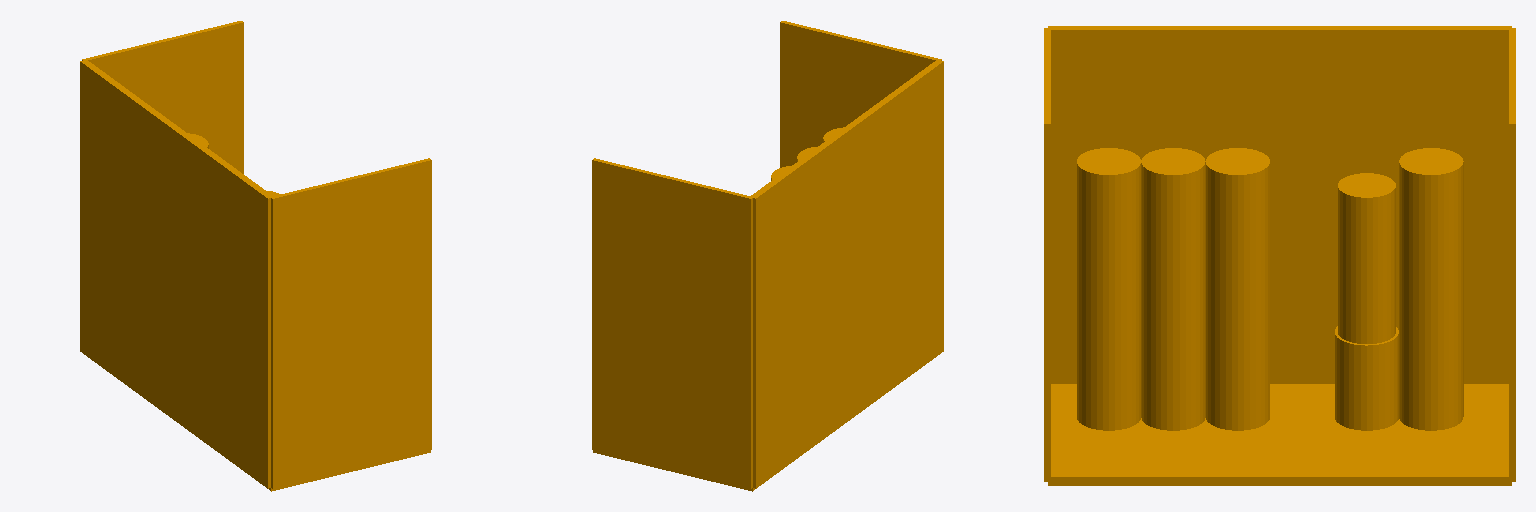
The robot description file, URDF, robot "syn_can_cabinet_packed_uniform_281":
<?xml version="1.0" ?>
<robot name="syn_can_cabinet_packed_uniform_281">
    <link concave="yes" name="base_link">
        <inertial>
            <origin rpy="0 0 0" xyz="0 0 0"/>
            <mass value="0.0"/>
            <inertia ixx="1e-08" ixy="0" ixz="0" iyy="1e-08" iyz="0" izz="1e-08"/>
        </inertial>
        <visual>
            <origin xyz="0 0 0" rpy="0 0 0" />
            <geometry>
                <mesh filename="syn_can_cabinet_packed_uniform_281.obj" scale="1.000000 1.000000 1.000000"/>
            </geometry>         
        </visual>

        <collision concave="yes">
            <origin xyz="0 0 0" rpy="0 0 0"/>
            <geometry>
                <mesh filename="syn_can_cabinet_packed_uniform_281.obj" scale="1.000000 1.000000 1.000000"/>
            </geometry>
        </collision>
    </link>
</robot>
    

--- What the picture shows (computed from the rendered views, not written in the file) ---
Views: 3 orthographic renders of the robot side by side, from view 1: azimuth 30°, elevation 25°; view 2: azimuth 150°, elevation 25°; view 3: azimuth 270°, elevation 25°.
Robot: syn_can_cabinet_packed_uniform_281 — 1 links, 0 joints (none); root link base_link; default pose: all joints at 0.
Visible links, largest first — view 1: base_link; view 2: base_link; view 3: base_link.
Link boxes in pixels (left/top/right/bottom): base_link: left=80, top=21, right=431, bottom=491; base_link: left=592, top=21, right=943, bottom=491; base_link: left=1044, top=26, right=1515, bottom=485.
Bounding box of the posed robot: 0.1652 × 0.3353 × 0.2847 m (x, y, z).
1 mesh visuals loaded from 1 distinct referenced files (1 OBJ).
